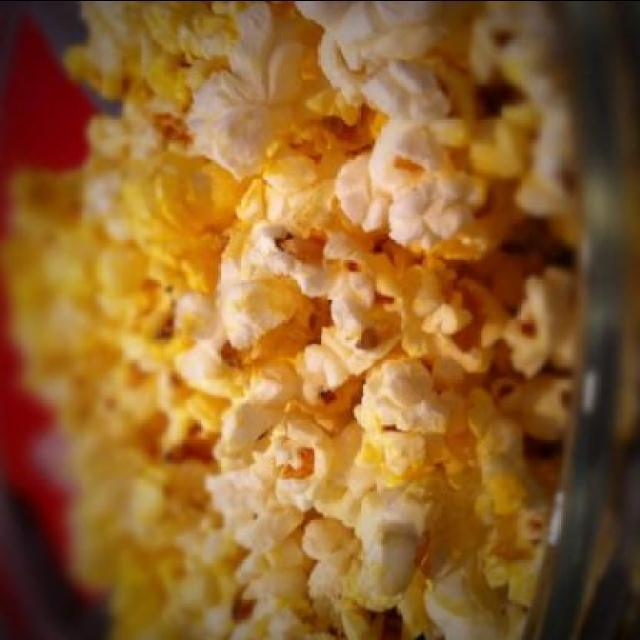Popcorn: (6, 1, 590, 636)
